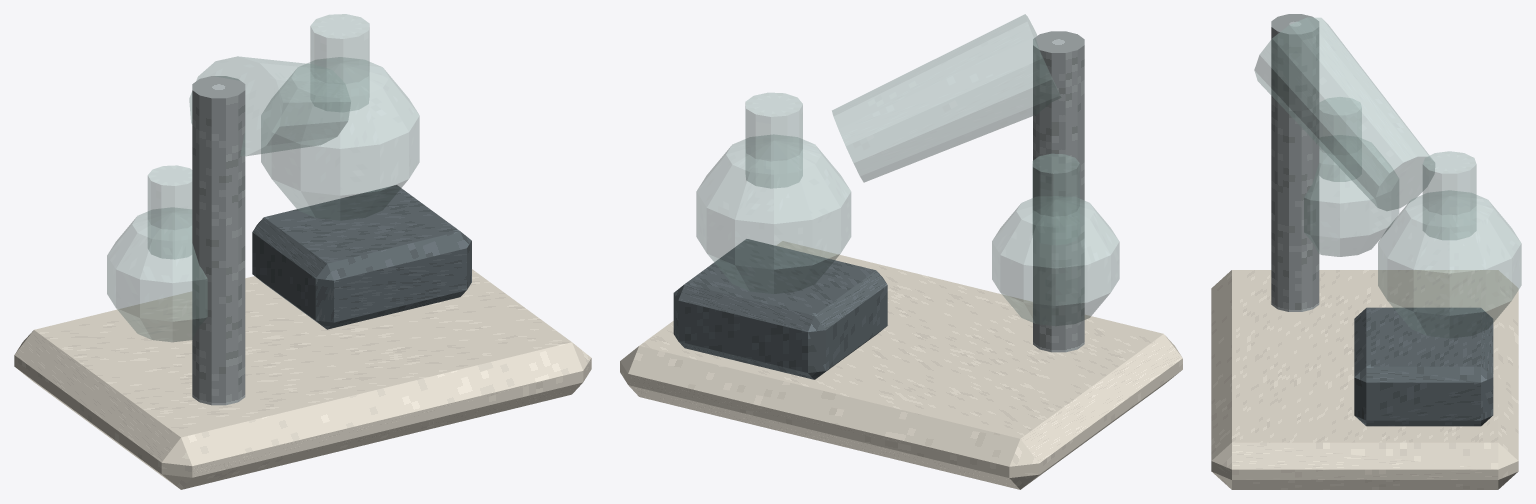
Rendered from rotovap.glb.
The picture shows the model from 3 angles, left to right: view 1: azimuth 30°, elevation 25°; view 2: azimuth 150°, elevation 25°; view 3: azimuth 270°, elevation 25°; orthographic projection. The views are drawn at different scales.
Visible parts, largest first — view 1: block_instrument base, block_round bottom flask (×2), block_heater and control panel, block_lift support, block_angled glass condenser, block_glass flask neck (×2); view 2: block_instrument base, block_round bottom flask (×2), block_heater and control panel, block_angled glass condenser, block_lift support, block_glass flask neck (×2); view 3: block_instrument base, block_round bottom flask (×2), block_angled glass condenser, block_heater and control panel, block_lift support, block_glass flask neck (×2).
Boxes of the visible parts, x1,y1,x2,y2 form: block_instrument base: [14, 269, 591, 489]; block_round bottom flask (×2): [107, 57, 419, 342]; block_heater and control panel: [252, 185, 471, 329]; block_lift support: [192, 76, 245, 405]; block_angled glass condenser: [189, 56, 350, 156]; block_glass flask neck (×2): [147, 14, 369, 259]; block_instrument base: [620, 241, 1182, 489]; block_round bottom flask (×2): [696, 134, 1119, 325]; block_heater and control panel: [673, 239, 887, 379]; block_angled glass condenser: [832, 14, 1061, 182]; block_lift support: [1033, 31, 1084, 352]; block_glass flask neck (×2): [745, 92, 1079, 244]; block_instrument base: [1211, 270, 1518, 489]; block_round bottom flask (×2): [1304, 139, 1521, 338]; block_angled glass condenser: [1254, 17, 1434, 210]; block_heater and control panel: [1354, 307, 1493, 426]; block_lift support: [1271, 14, 1319, 311]; block_glass flask neck (×2): [1319, 97, 1476, 239].
Size of the model in its own units: 0.7477 by 0.6302 by 0.5159.
Materials: 2 (2 with a texture image).
